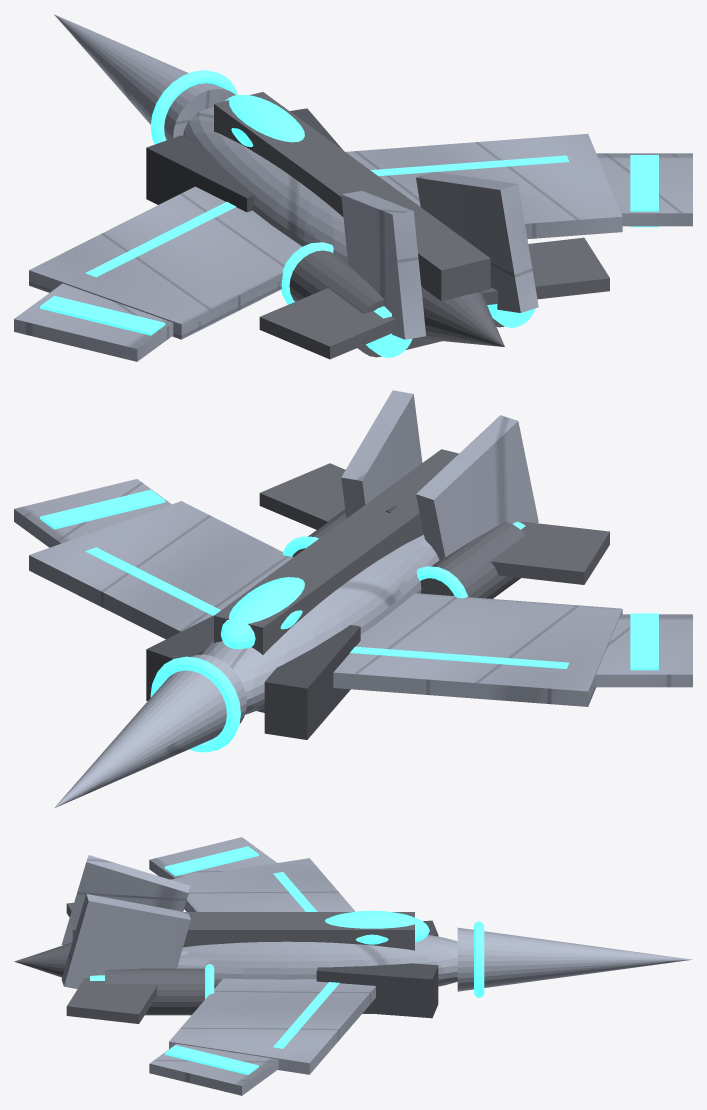
File: nebula_fighter.fbx
3 views of the same model, one above another, from view 1: azimuth 30°, elevation 25°; view 2: azimuth 150°, elevation 25°; view 3: azimuth 270°, elevation 25° (orthographic). The views are drawn at different scales.
Parts seen in each view (by area): view 1: nebula_fighter; view 2: nebula_fighter; view 3: nebula_fighter.
Boxes of the visible parts, x1,y1,x2,y2 form: nebula_fighter: (14, 14, 692, 361); nebula_fighter: (14, 390, 692, 808); nebula_fighter: (14, 837, 691, 1095).
Bounding box in the file's own units: 5.51 × 1.26 × 6.35.
Materials: 4 (1 with a texture image).
